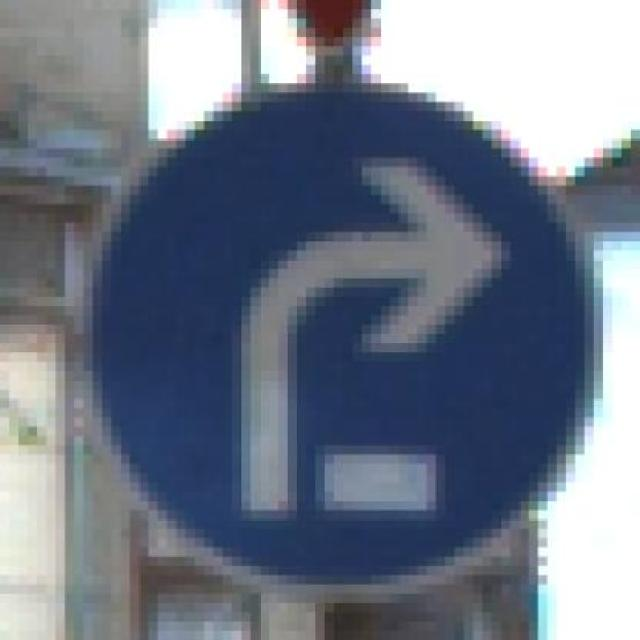Turn right ahead: (65, 83, 612, 612)
